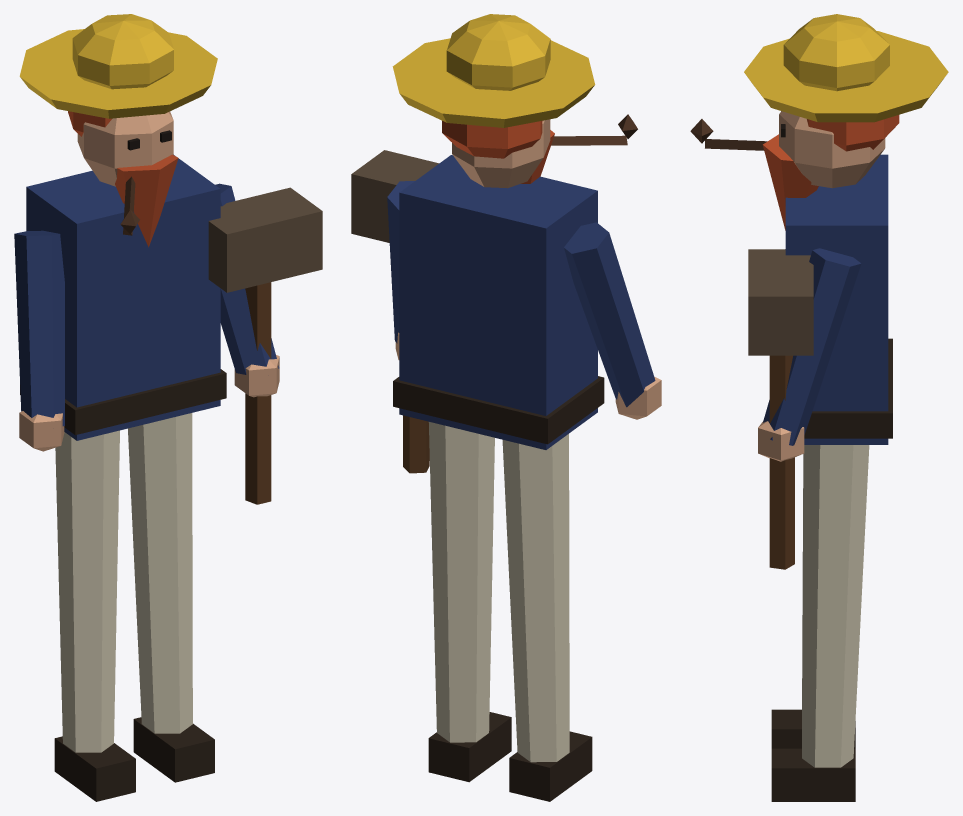
The model's file is klabautermann.glb.
The picture shows the model from 3 angles, left to right: view 1: azimuth 30°, elevation 25°; view 2: azimuth 150°, elevation 25°; view 3: azimuth 270°, elevation 25°; orthographic projection. The views are drawn at different scales.
Bounding box in the file's own units: 0.4214 × 1.07 × 0.333.
1 material, 1 textured.
